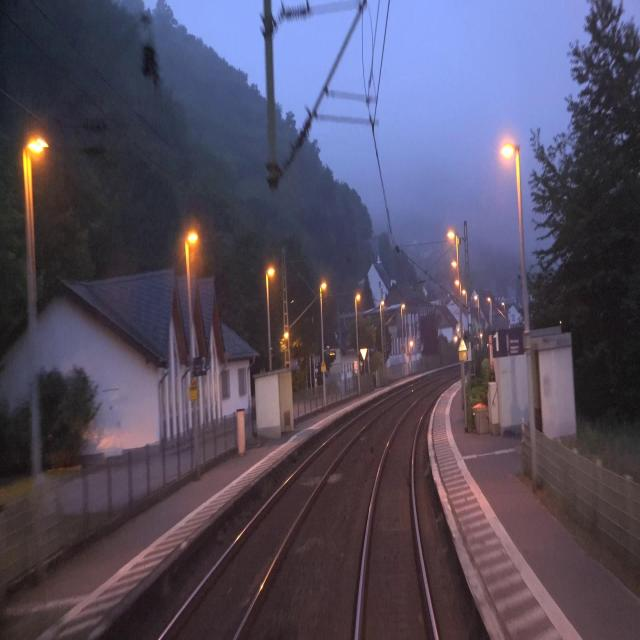rail-track: (164, 402, 386, 639), (359, 387, 441, 639)
